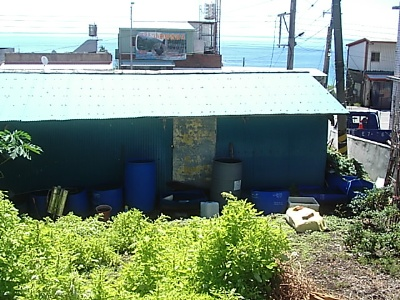bucket: (124, 159, 156, 212), (210, 156, 244, 201), (200, 201, 219, 218)
styrofoam: (286, 196, 319, 212)
water_tower: (203, 1, 216, 20), (88, 23, 98, 37)
